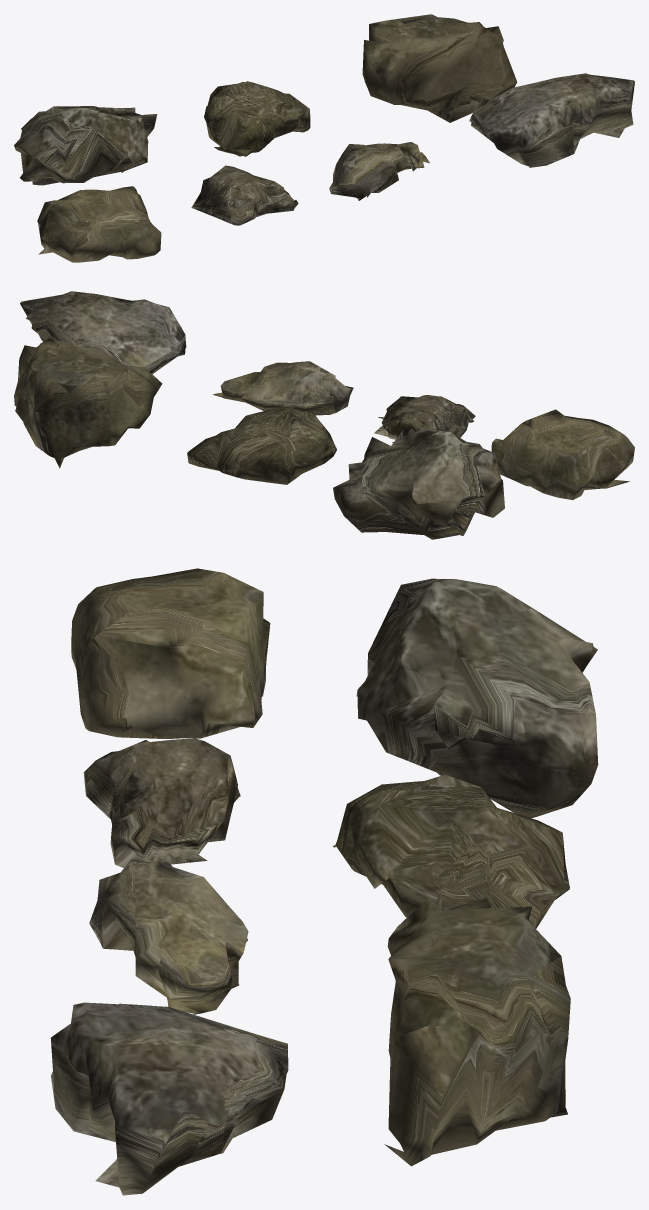
File: rock_moss_set_02_lod2.glb
3 renders of one model, top to bottom at view 1: azimuth 30°, elevation 25°; view 2: azimuth 150°, elevation 25°; view 3: azimuth 270°, elevation 25°, orthographic. The views are drawn at different scales.
Visible parts, largest first — view 1: rock_moss_set_02_rock08; view 2: rock_moss_set_02_rock08; view 3: rock_moss_set_02_rock08.
Boxes of the visible parts, bbox=[...] form: rock_moss_set_02_rock08: bbox=[14, 14, 634, 262]; rock_moss_set_02_rock08: bbox=[14, 291, 634, 539]; rock_moss_set_02_rock08: bbox=[50, 568, 598, 1195].
Bounding box in the file's own units: 8.26 × 1.34 × 3.29.
Materials: 1 (1 with a texture image).
